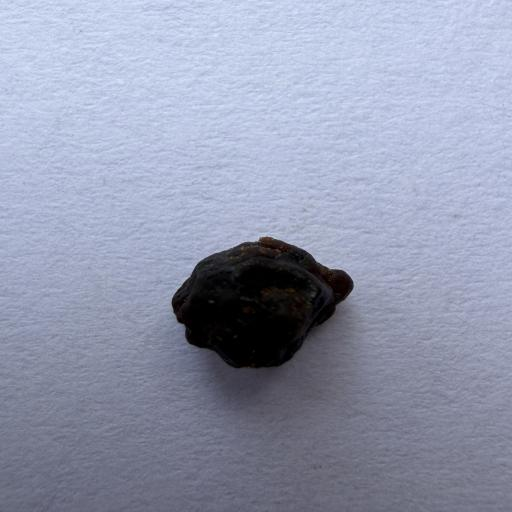Black_pepper: (161, 210, 352, 392)
